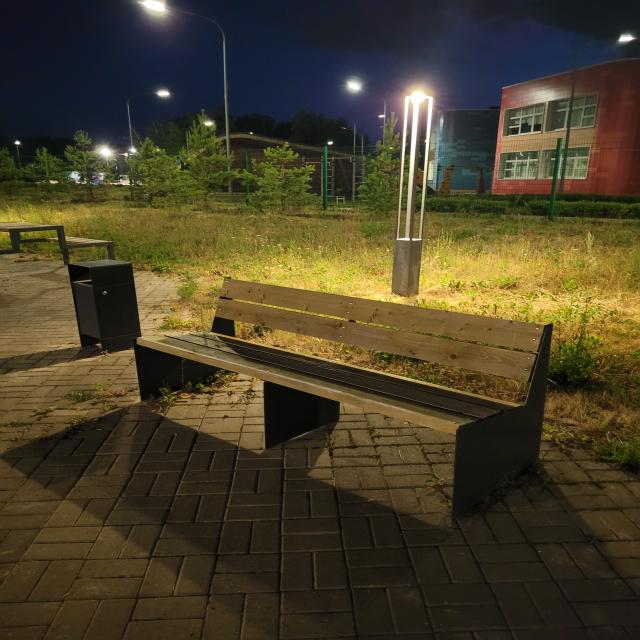Bench: (135, 277, 552, 521)
